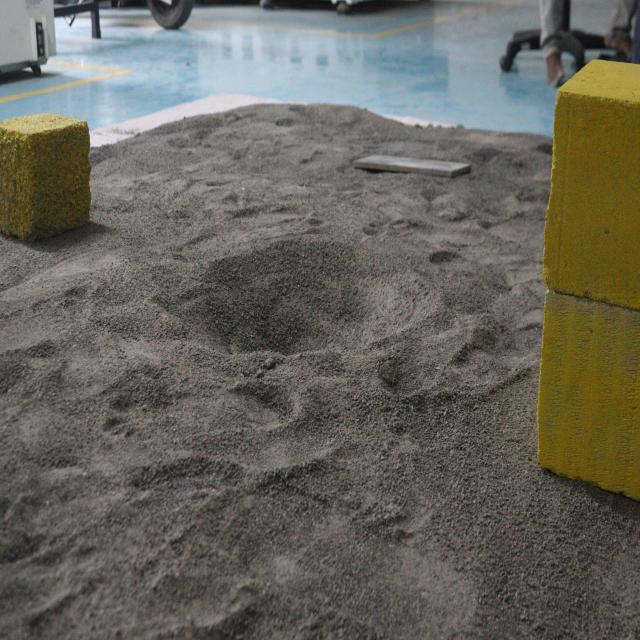box: (539, 56, 640, 498), (0, 104, 100, 243)
crater: (169, 220, 423, 374)
